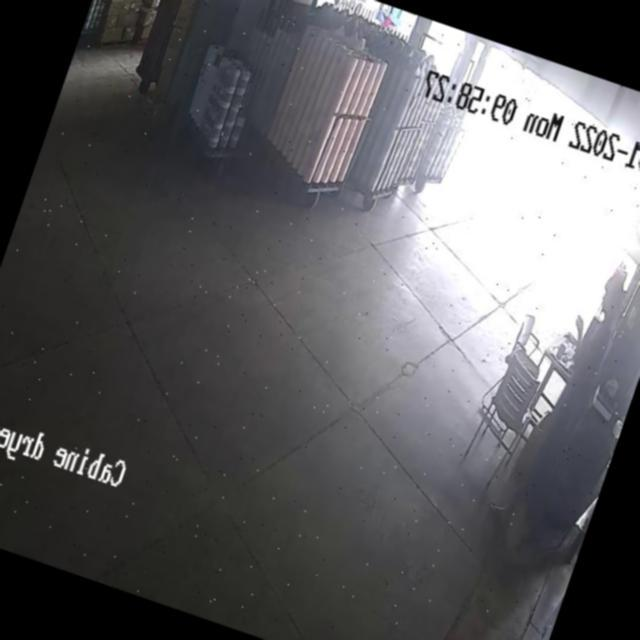person: (494, 260, 630, 538)
